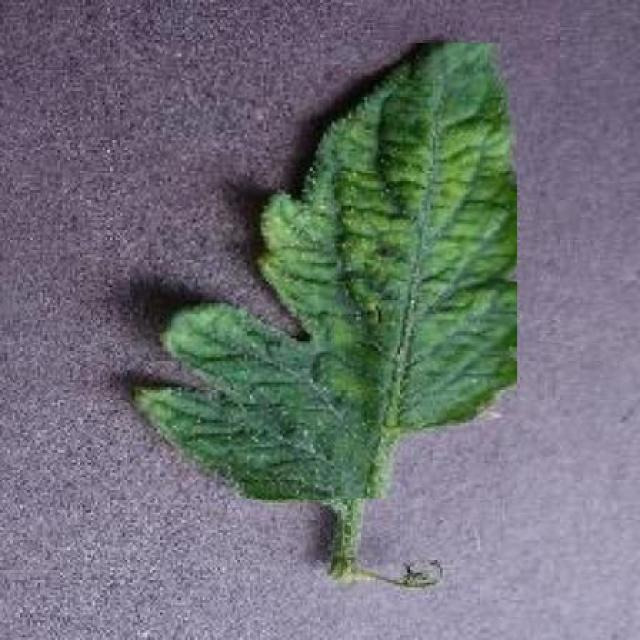Mosaic Virus: (130, 43, 517, 498)
